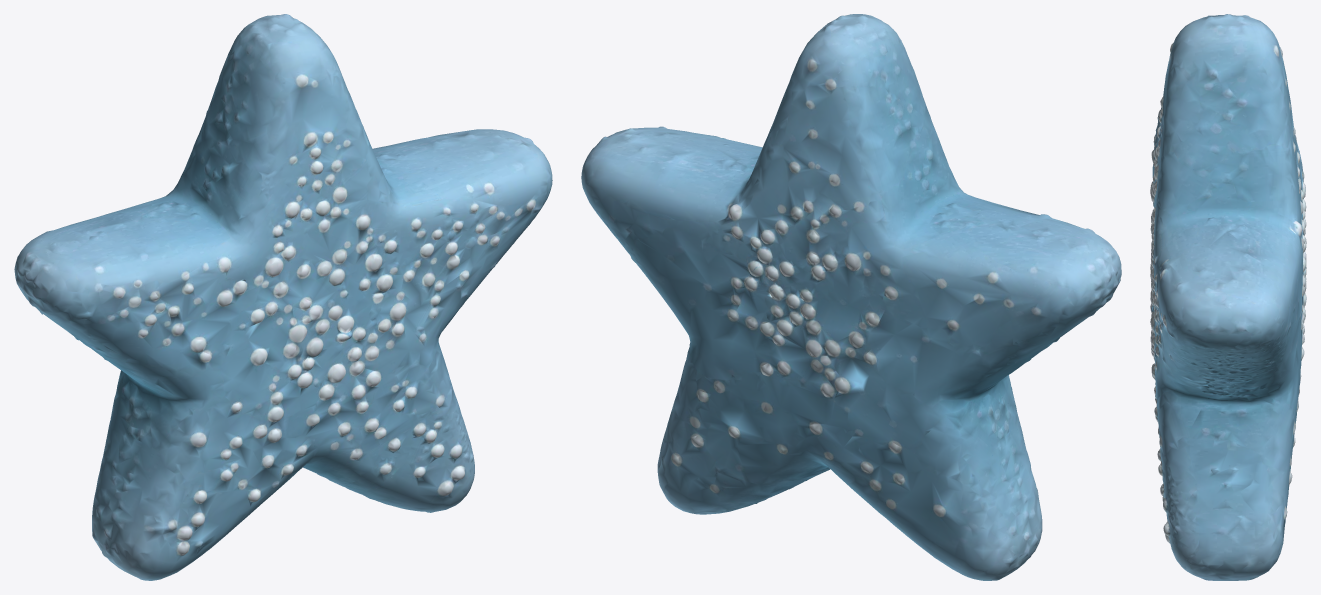
The model's file is bk-decor-sprinkle-star.glb.
3 renders of one model, left to right at view 1: azimuth 30°, elevation 25°; view 2: azimuth 150°, elevation 25°; view 3: azimuth 270°, elevation 25°, orthographic. The views are drawn at different scales.
Parts seen in each view (by area): view 1: node_0; view 2: node_0; view 3: node_0.
Part boxes in pixels (box(x1,y1,x2,y2)): node_0: box(14, 14, 552, 580); node_0: box(581, 14, 1121, 580); node_0: box(1150, 14, 1306, 580).
Bounding box in the file's own units: 1.07 × 1.03 × 0.2944.
Materials: 1 (1 with a texture image).
